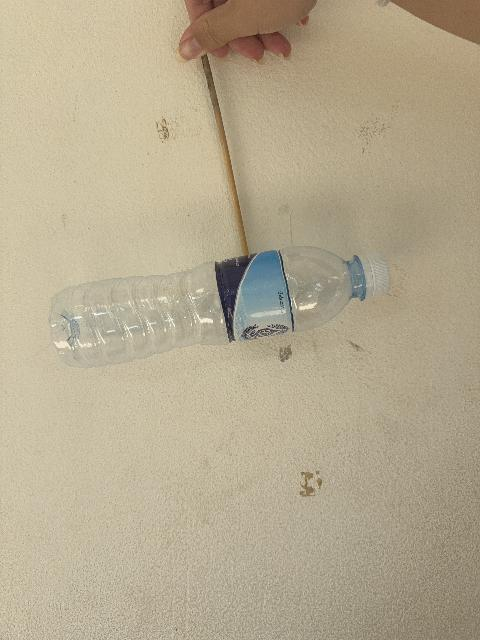bottle: (50, 247, 389, 367)
